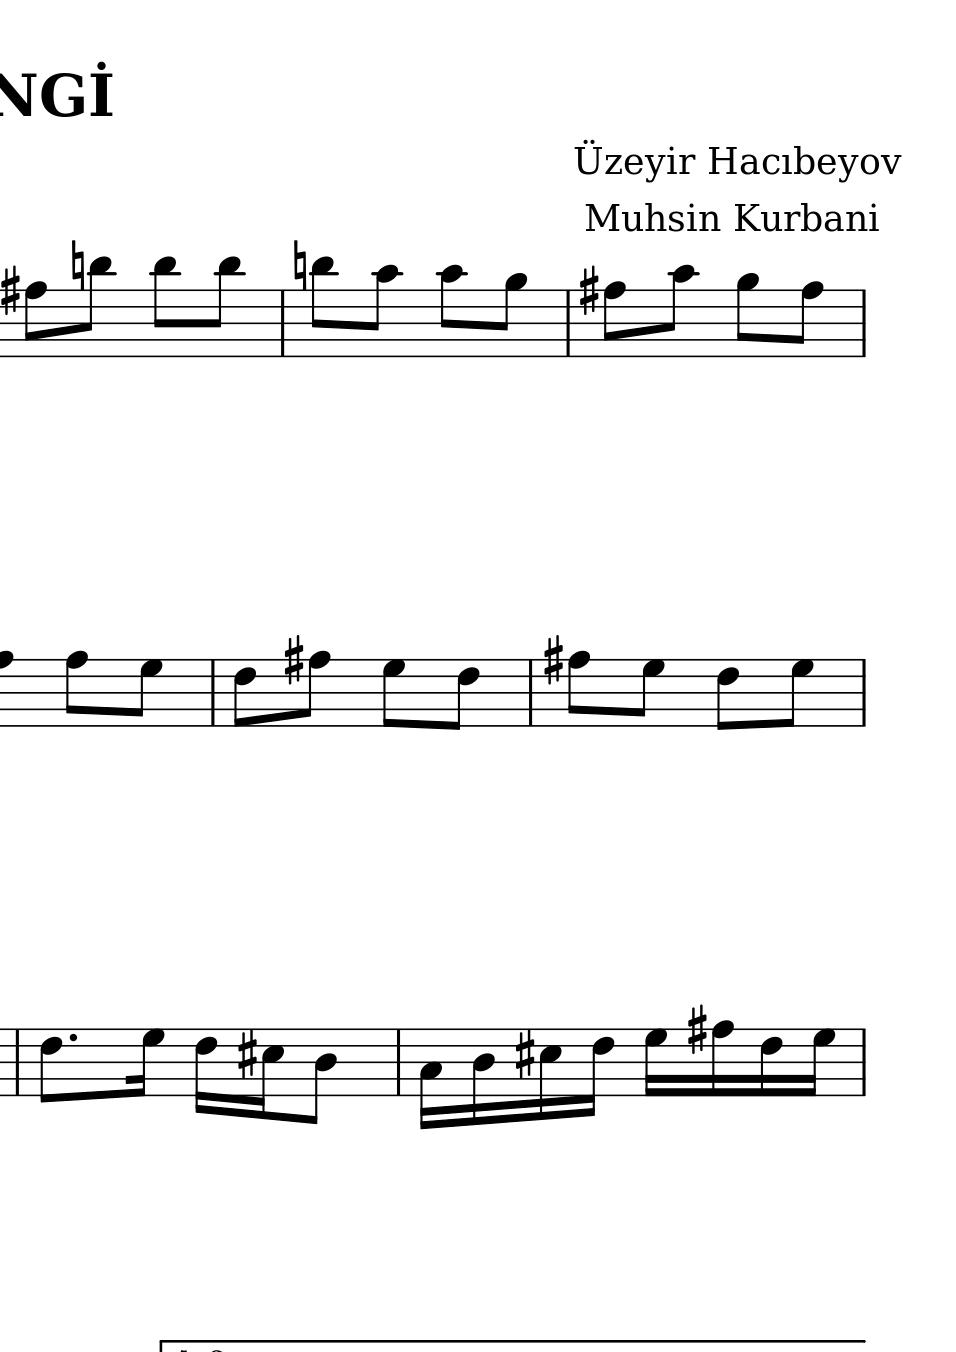16_3: (417, 1027, 443, 1132)
16_4: (469, 1025, 495, 1128)
16_5: (252, 1027, 283, 1121), (536, 1026, 562, 1122)
16_6: (578, 1025, 614, 1118), (192, 1025, 218, 1117), (758, 1025, 783, 1099)
16_7: (126, 1025, 165, 1098), (802, 1025, 836, 1099), (643, 1025, 669, 1101)
16_8: (709, 1019, 734, 1098)
8_10: (365, 263, 399, 359), (661, 263, 695, 359), (436, 263, 465, 359)
8_11: (78, 254, 113, 360), (206, 254, 241, 359), (151, 254, 179, 359), (309, 254, 335, 360)
8_4: (303, 1026, 337, 1126)
8_6: (447, 657, 480, 732), (714, 657, 740, 733), (231, 657, 258, 729), (37, 1027, 62, 1105)
8_7: (779, 657, 814, 729), (128, 658, 162, 728), (632, 658, 664, 728), (380, 658, 405, 730)
8_8: (788, 280, 823, 360), (298, 648, 330, 728), (62, 649, 88, 730), (565, 649, 590, 729), (601, 280, 625, 360), (22, 280, 46, 359)
8_9: (494, 272, 527, 360), (734, 272, 759, 359)
Natural: (69, 239, 84, 292), (292, 239, 306, 291)
Sharp: (512, 1028, 536, 1082), (235, 1027, 258, 1081), (685, 1003, 707, 1056), (541, 634, 563, 686), (282, 634, 303, 687), (577, 265, 598, 316)
Single_barline: (855, 659, 872, 726), (205, 660, 222, 727), (560, 290, 575, 357), (856, 290, 871, 357), (522, 660, 538, 726), (856, 1029, 871, 1095), (274, 291, 290, 356), (9, 1030, 25, 1095), (391, 1029, 406, 1096)
dot: (66, 1030, 80, 1046)
